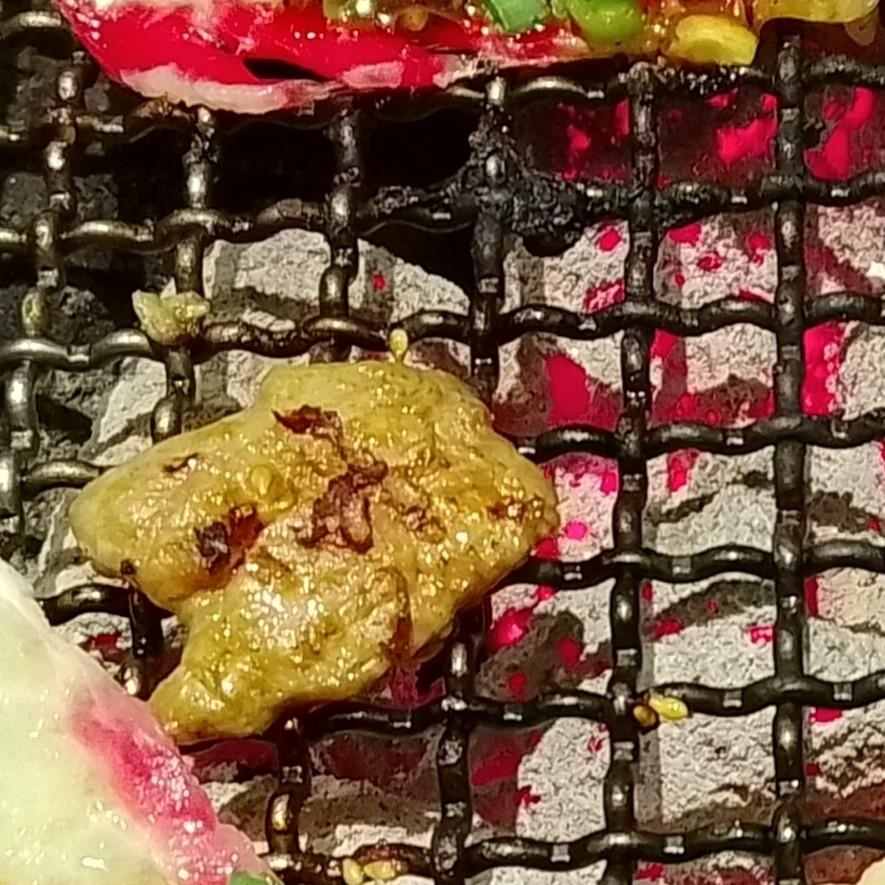Overcooked: (70, 361, 558, 752)
Undercooked: (0, 562, 264, 884), (49, 0, 763, 112)
